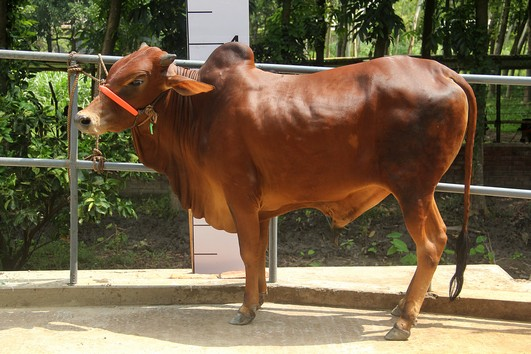cow: (70, 34, 484, 341)
